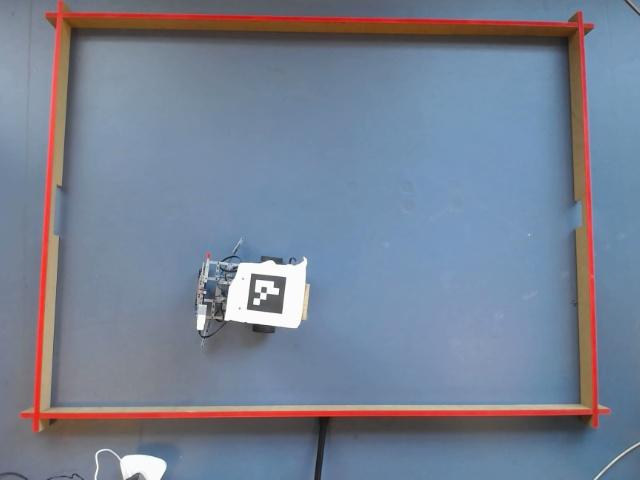ev3: (196, 250, 311, 339)
